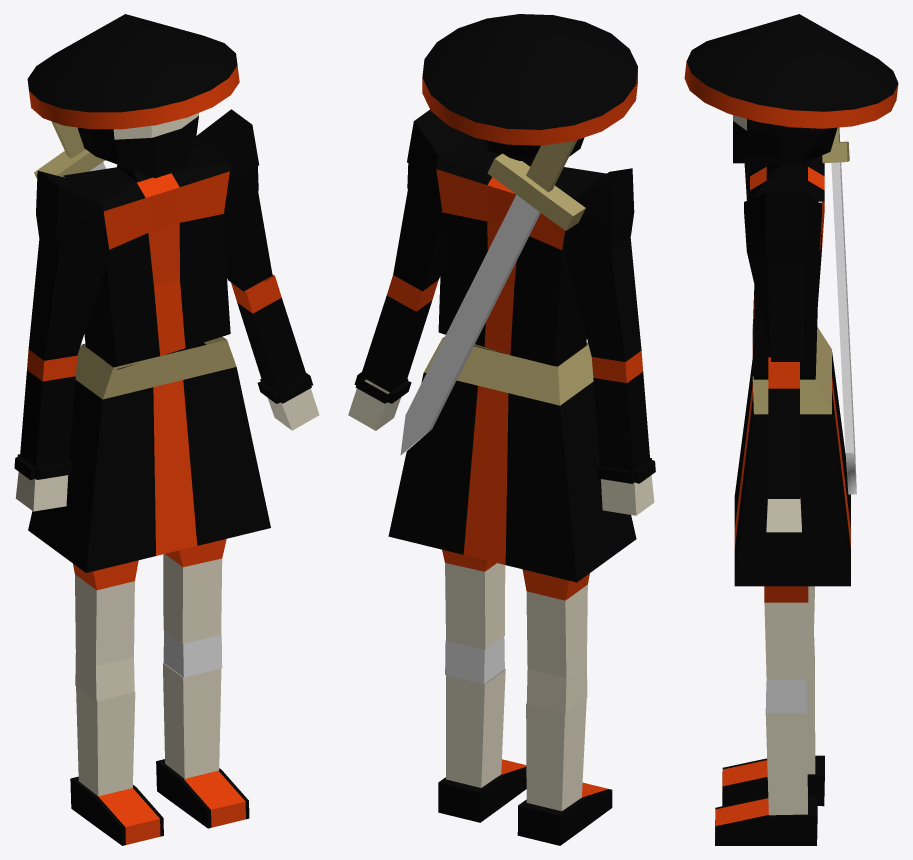
3 views of the same model, side by side, from view 1: azimuth 30°, elevation 25°; view 2: azimuth 150°, elevation 25°; view 3: azimuth 270°, elevation 25° (orthographic). The views are drawn at different scales.
Visible parts, largest first — view 1: Body_2, Body_3, Hat, Left_Leg_5, Rightt_Leg_2, Rightt_Leg_1, Left_Arm_1, Left_Leg_4, Right_Arm_1, Left_Arm_2, Head, Left_Arm_3 (+3 smaller); view 2: Body_2, Hat, Body_3, Sword, Left_Leg_5, Rightt_Leg_2, Rightt_Leg_1, Left_Arm_1, Left_Leg_4, Right_Arm_1, Left_Arm_2, Left_Arm_3 (+3 smaller); view 3: Body_2, Hat, Left_Leg_5, Right_Arm_1, Left_Leg_4, Right_Arm_3, Right_Arm_2, Head, Body_3, Sword, Rightt_Leg_2, Rightt_Leg_1.
Boxes of the visible parts, bbox=[...] form: Body_2: bbox=[28, 336, 270, 572]; Body_3: bbox=[63, 138, 230, 369]; Hat: bbox=[27, 14, 239, 129]; Left_Leg_5: bbox=[156, 663, 249, 828]; Rightt_Leg_2: bbox=[70, 686, 163, 845]; Rightt_Leg_1: bbox=[73, 560, 138, 701]; Left_Arm_1: bbox=[14, 349, 77, 511]; Left_Leg_4: bbox=[163, 539, 226, 677]; Right_Arm_1: bbox=[231, 274, 319, 430]; Left_Arm_2: bbox=[28, 238, 109, 360]; Head: bbox=[78, 113, 198, 182]; Left_Arm_3: bbox=[36, 170, 109, 253]; Body_2: bbox=[388, 337, 636, 582]; Hat: bbox=[422, 14, 637, 145]; Body_3: bbox=[436, 135, 606, 366]; Sword: bbox=[400, 140, 585, 455]; Left_Leg_5: bbox=[438, 669, 526, 822]; Rightt_Leg_2: bbox=[517, 699, 612, 845]; Rightt_Leg_1: bbox=[522, 569, 589, 713]; Left_Arm_1: bbox=[591, 350, 655, 515]; Left_Leg_4: bbox=[442, 549, 505, 683]; Right_Arm_1: bbox=[348, 275, 438, 430]; Left_Arm_2: bbox=[564, 237, 641, 361]; Left_Arm_3: bbox=[564, 168, 634, 250]; Body_2: bbox=[734, 324, 850, 586]; Hat: bbox=[684, 14, 898, 128]; Left_Leg_5: bbox=[715, 708, 817, 845]; Right_Arm_1: bbox=[764, 357, 804, 532]; Left_Leg_4: bbox=[764, 586, 808, 713]; Right_Arm_3: bbox=[744, 192, 818, 264]; Right_Arm_2: bbox=[747, 252, 815, 361]; Head: bbox=[733, 115, 837, 180]; Body_3: bbox=[750, 155, 824, 376]; Sword: bbox=[822, 127, 856, 494]; Rightt_Leg_2: bbox=[722, 678, 824, 806]; Rightt_Leg_1: bbox=[806, 586, 814, 677].
Size of the model in its own units: 1.58 by 4.17 by 1.02.
